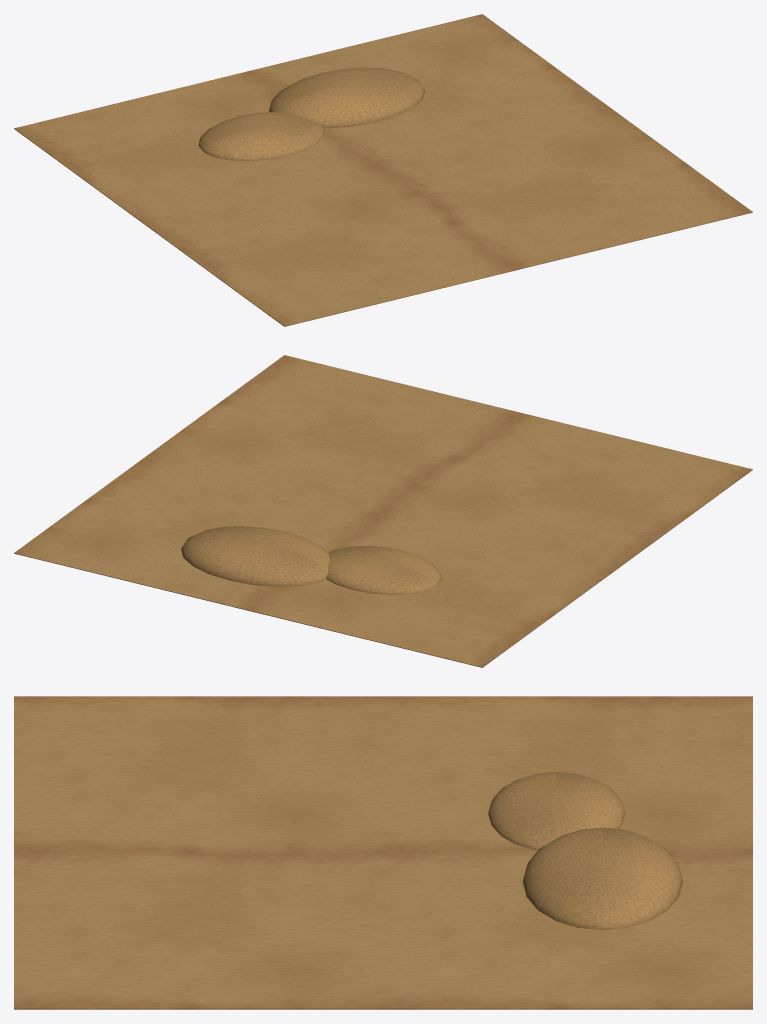
File: desert-v1.glb
3 renders of one model, top to bottom at view 1: azimuth 30°, elevation 25°; view 2: azimuth 150°, elevation 25°; view 3: azimuth 270°, elevation 25°, orthographic. The views are drawn at different scales.
Visible parts, largest first — view 1: Earth gravel and wheel ruts, Distant grassy rise; view 2: Earth gravel and wheel ruts, Distant grassy rise; view 3: Earth gravel and wheel ruts, Distant grassy rise.
Boxes of the visible parts, box(x1,y1,x2,y2) form: Earth gravel and wheel ruts: box(14, 14, 752, 326); Distant grassy rise: box(198, 67, 425, 161); Earth gravel and wheel ruts: box(14, 355, 752, 667); Distant grassy rise: box(181, 526, 441, 594); Earth gravel and wheel ruts: box(14, 696, 752, 1009); Distant grassy rise: box(488, 772, 682, 930).
Size of the model in its own units: 64 by 5.2 by 64.
Materials: 3 (3 with a texture image).
